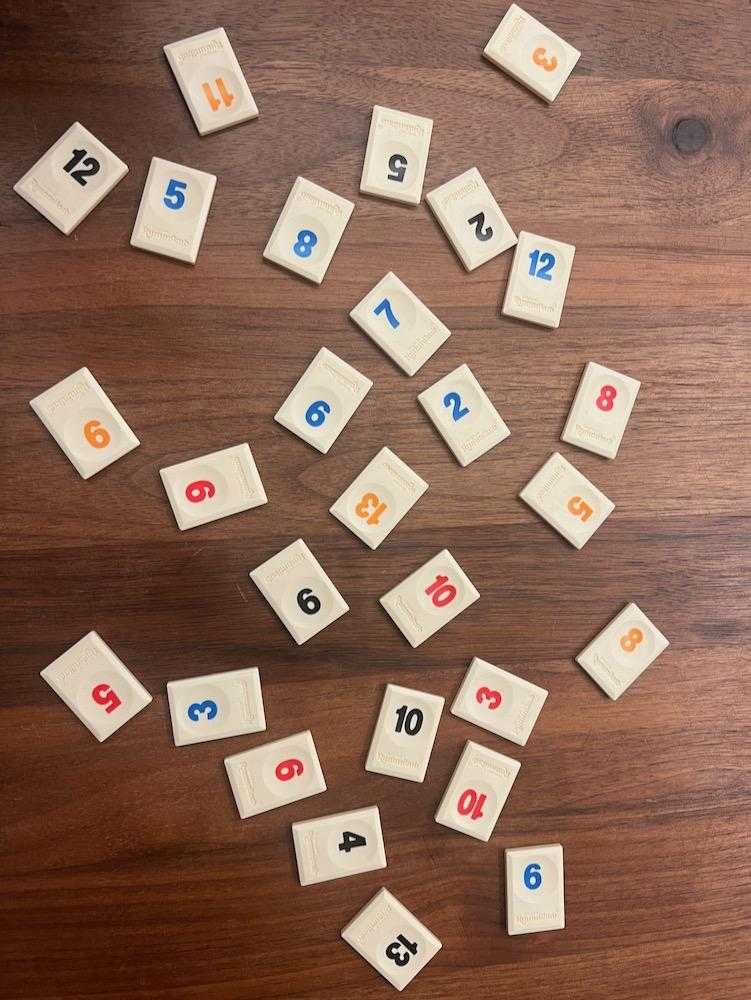black_10: (365, 684, 443, 783)
black_12: (14, 123, 129, 234)
black_13: (342, 889, 441, 990)
black_2: (426, 168, 518, 271)
black_4: (291, 807, 387, 885)
black_5: (359, 105, 434, 205)
black_9: (250, 539, 348, 645)
blue_12: (502, 230, 574, 328)
blue_2: (419, 363, 510, 467)
blue_3: (168, 668, 266, 746)
blue_5: (131, 158, 217, 264)
blue_6: (507, 844, 563, 936)
blue_7: (350, 271, 451, 375)
blue_8: (266, 178, 354, 283)
blue_9: (275, 348, 373, 453)
orange_11: (165, 27, 258, 135)
orange_13: (330, 447, 428, 549)
orange_3: (484, 4, 580, 102)
orange_5: (520, 453, 615, 549)
orange_8: (576, 604, 668, 699)
orange_9: (29, 367, 139, 479)
red_10: (381, 551, 479, 646), (437, 740, 521, 842)
red_3: (453, 658, 547, 744)
red_5: (41, 631, 152, 742)
red_6: (226, 730, 326, 818)
red_8: (562, 361, 641, 459)
red_9: (160, 443, 268, 529)
